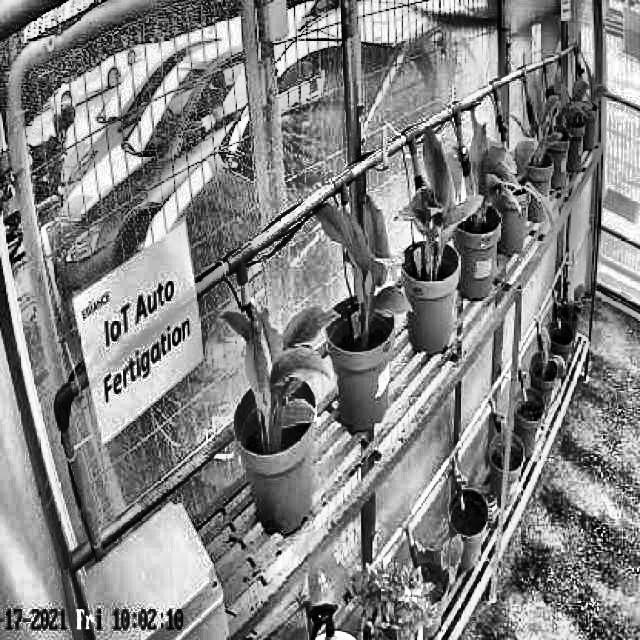plants: (224, 306, 340, 436), (312, 195, 414, 320), (398, 126, 468, 269), (464, 108, 518, 232), (517, 83, 560, 160)
